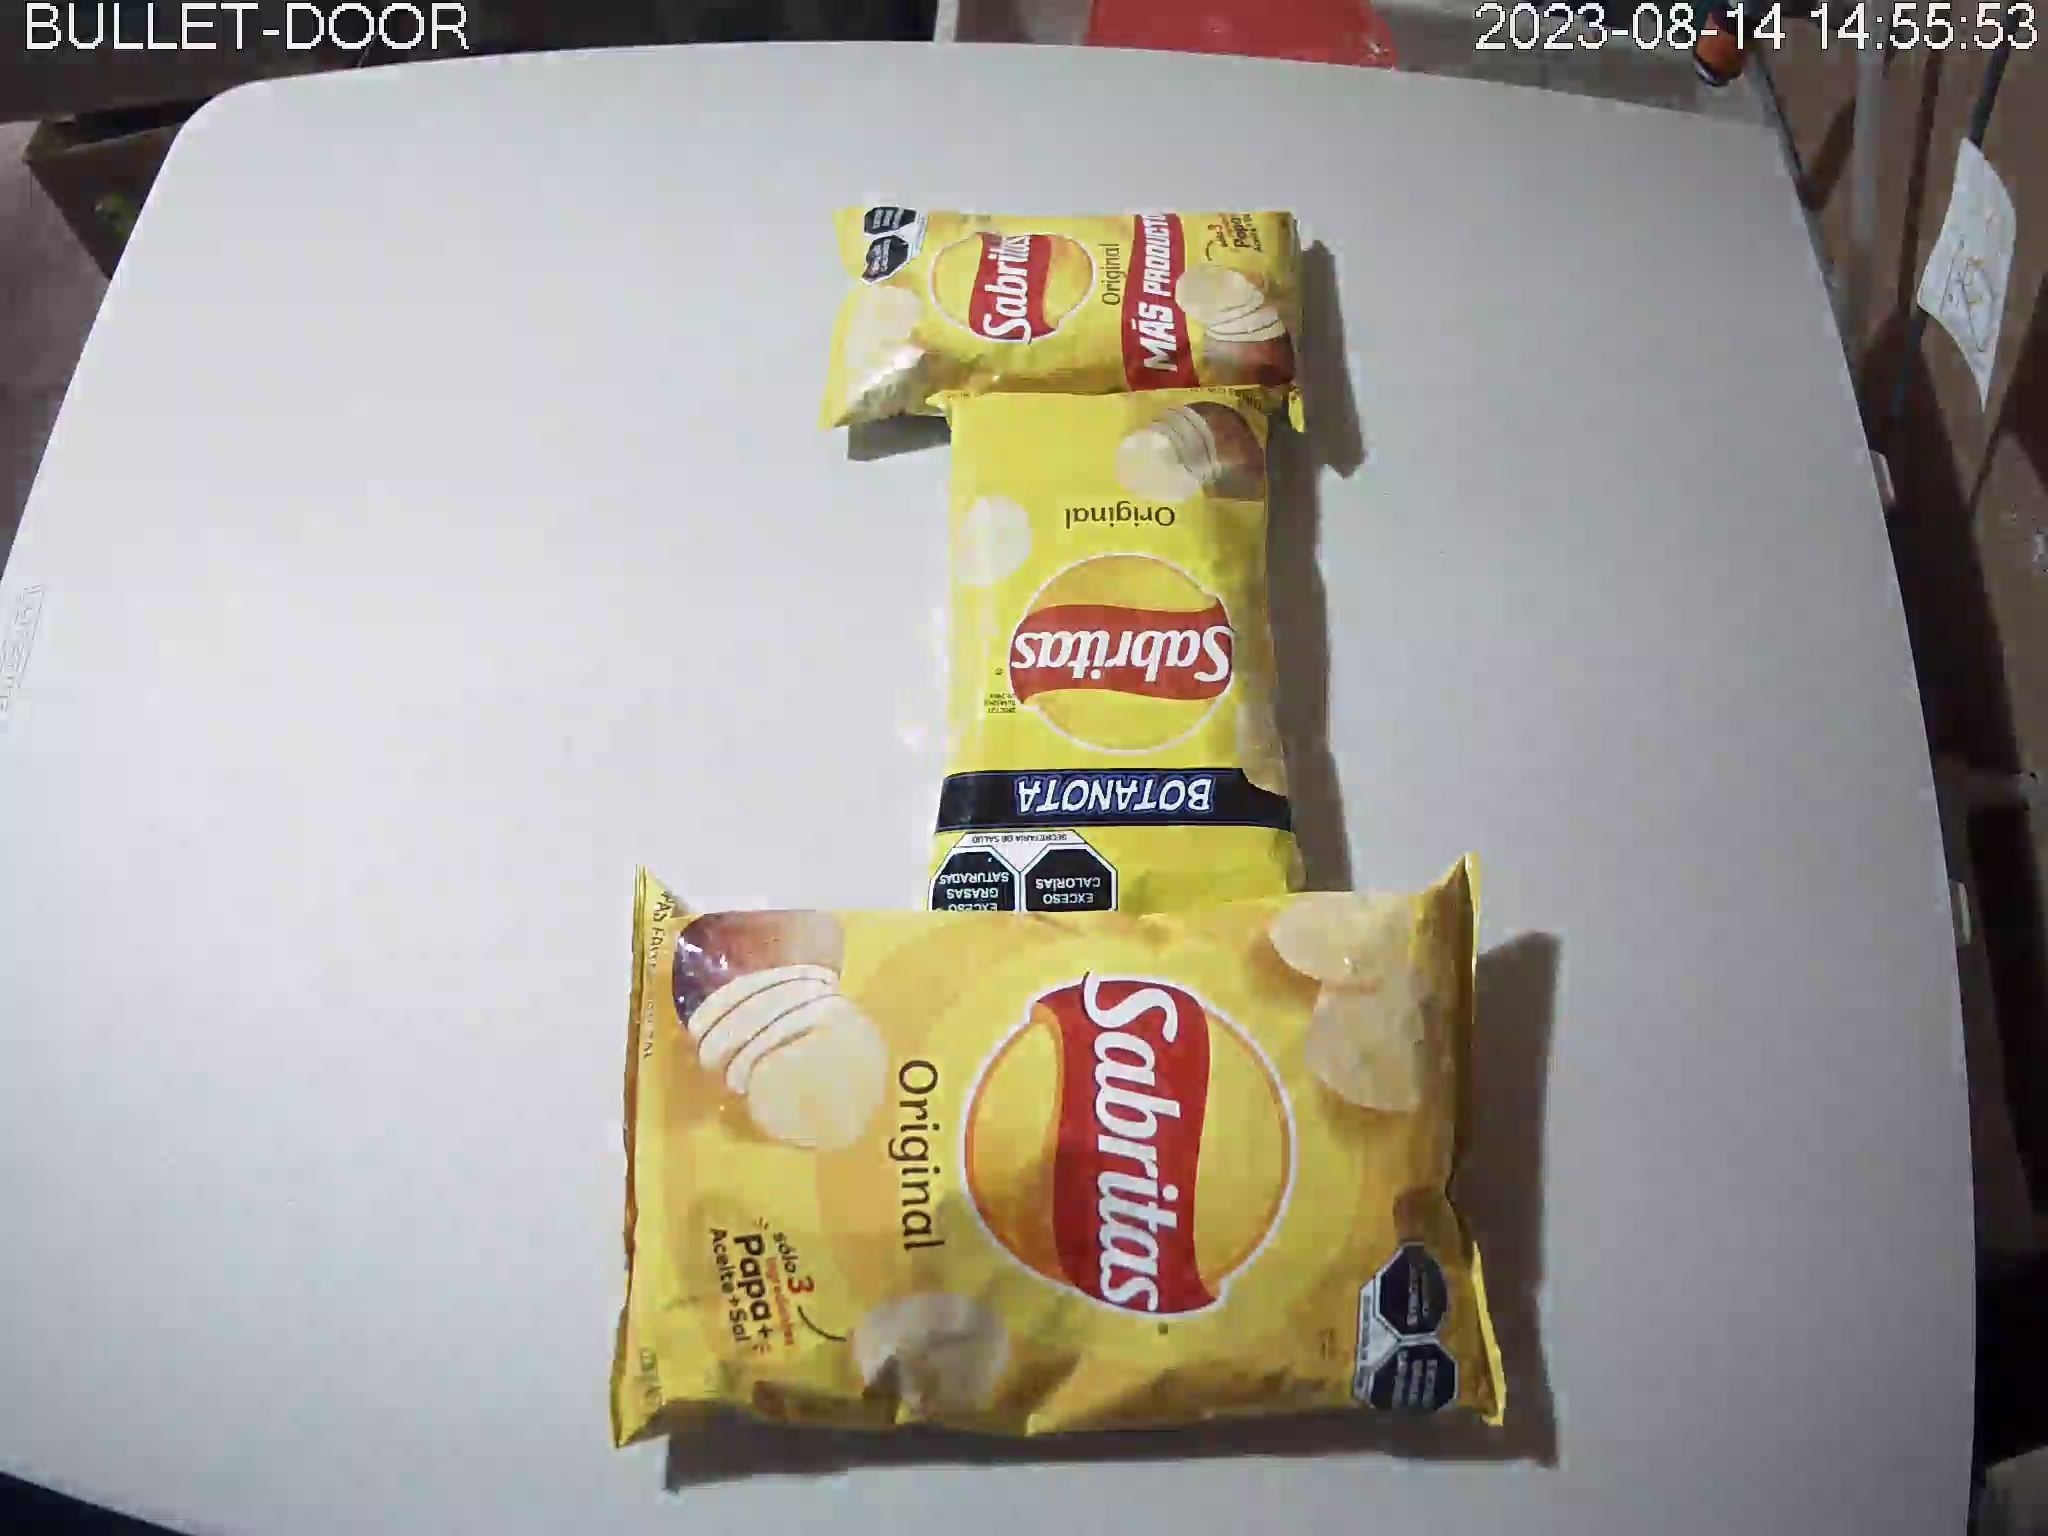Sabritas_160_F: (608, 850, 1508, 1455)
Sabritas_45_F: (818, 207, 1314, 440)
Sabritas_64_F: (922, 384, 1308, 939)
